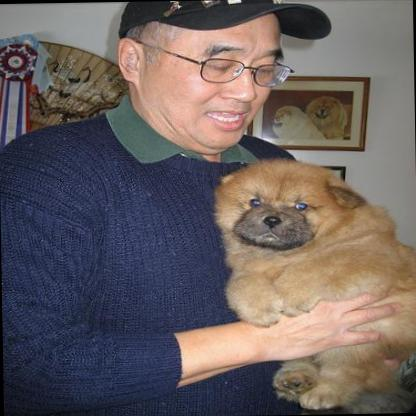chow: (205, 154, 416, 409)
